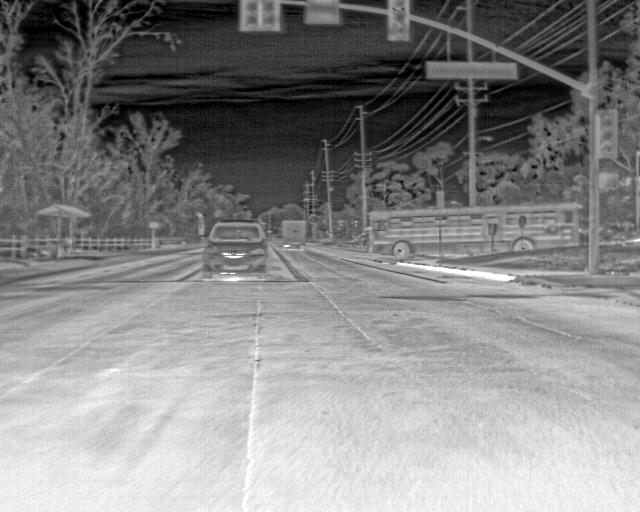car: (367, 202, 580, 259), (201, 221, 269, 280), (281, 220, 306, 248)
light: (601, 116, 612, 154), (392, 0, 405, 32), (262, 0, 273, 27), (600, 173, 618, 189), (246, 0, 257, 26)
sign: (427, 62, 518, 79), (305, 0, 340, 24), (488, 223, 497, 235), (437, 191, 444, 203), (519, 216, 526, 227), (149, 223, 159, 229), (199, 218, 204, 228), (199, 228, 205, 235), (437, 203, 444, 208)
